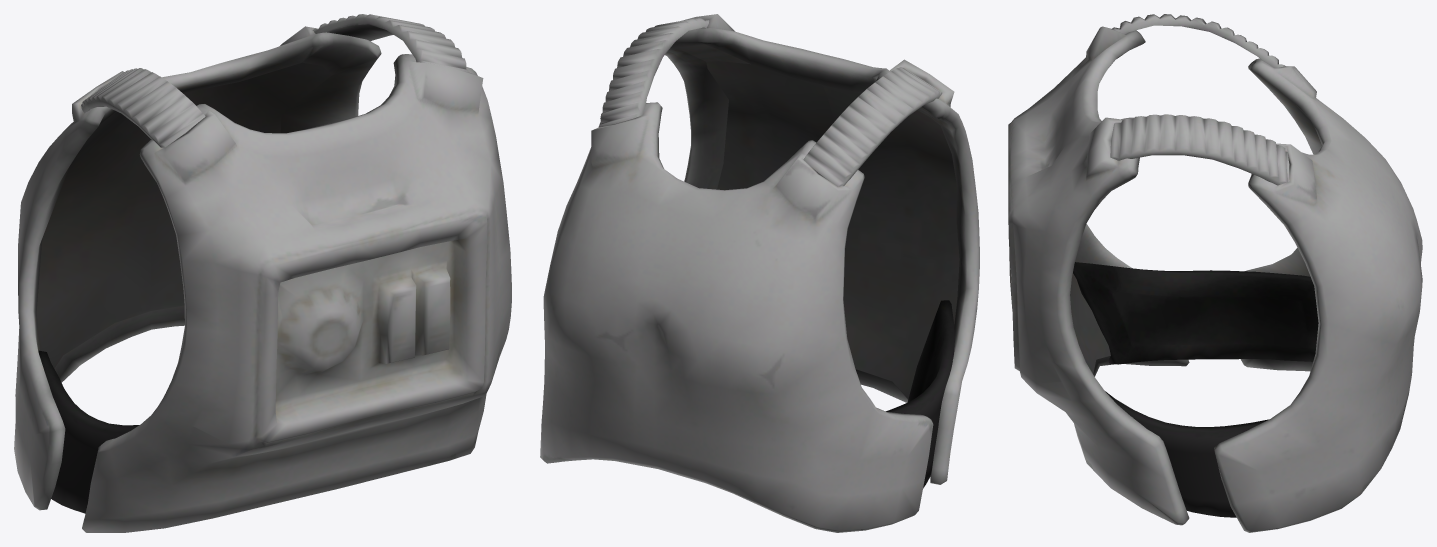
The model's file is Stormtrooper_Chestplate.fbx.
The picture shows the model from 3 angles, left to right: view 1: azimuth 30°, elevation 25°; view 2: azimuth 150°, elevation 25°; view 3: azimuth 270°, elevation 25°; orthographic projection. The views are drawn at different scales.
Parts seen in each view (by area): view 1: Chest plate; view 2: Chest plate; view 3: Chest plate.
Boxes of the visible parts, x1=… form: Chest plate: x1=14, y1=14, x2=511, y2=532; Chest plate: x1=540, y1=14, x2=979, y2=532; Chest plate: x1=1008, y1=14, x2=1422, y2=532.
Bounding box in the file's own units: 0.4585 × 0.4747 × 0.4646.
